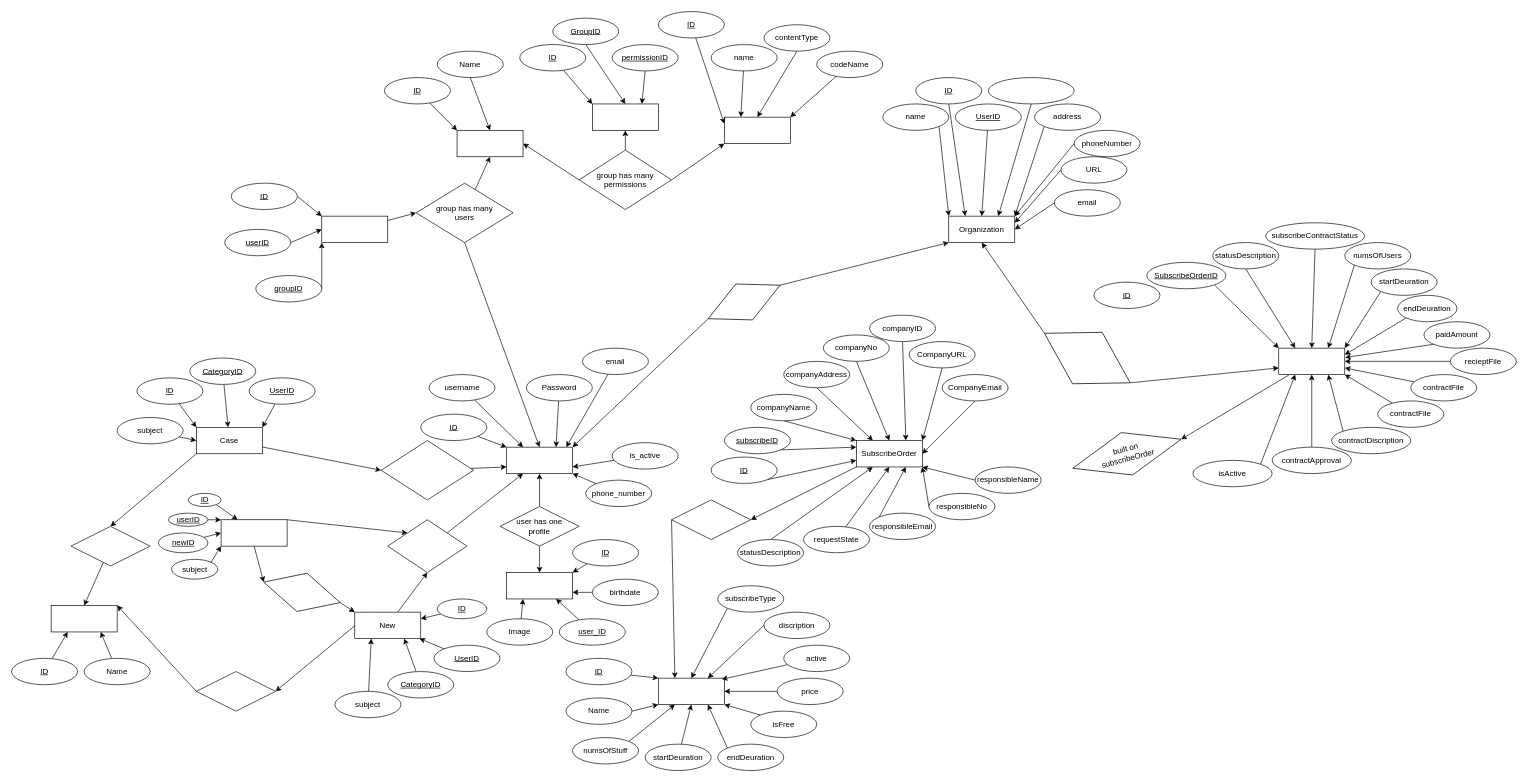
This 1528x782 diagram has some shape labels left out. The shapes that lost their labels are listed below. From the top down, each one's box as (x1, y1, x2, y2) in pixels, then its label:
(988, 77, 1074, 104): subscribeContractID
(592, 103, 658, 130): GroupPermission
(724, 116, 790, 144): permission
(456, 130, 523, 157): Group
(321, 215, 388, 243): GroupUsers
(699, 267, 789, 337): org has admin
(1029, 307, 1145, 409): org has subscribecontract
(1278, 347, 1345, 375): SubscribeContract
(380, 440, 474, 500): lawyer can add many case
(506, 446, 573, 474): User
(220, 519, 287, 546): comment
(671, 499, 751, 540): select a subscribe
(70, 526, 150, 566): case has category
(387, 519, 467, 573): User can add new, comment
(258, 562, 345, 622): comment on new
(506, 572, 573, 599): profile
(50, 605, 117, 632): Category
(196, 671, 276, 711): new has category
(658, 677, 724, 705): Subscribe
